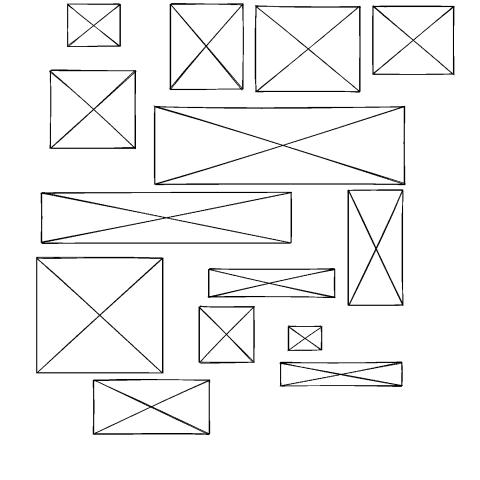Image: (153, 105, 407, 187), (35, 256, 166, 375), (40, 191, 295, 246), (254, 5, 363, 95), (48, 69, 139, 151), (347, 188, 406, 308), (168, 3, 247, 92), (92, 379, 212, 437), (371, 5, 456, 77), (207, 267, 338, 299), (197, 306, 257, 366), (279, 361, 406, 389), (65, 3, 124, 49), (286, 325, 325, 353)
